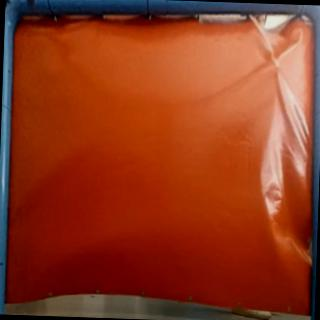Hit-hRxx: (269, 56, 285, 74)
